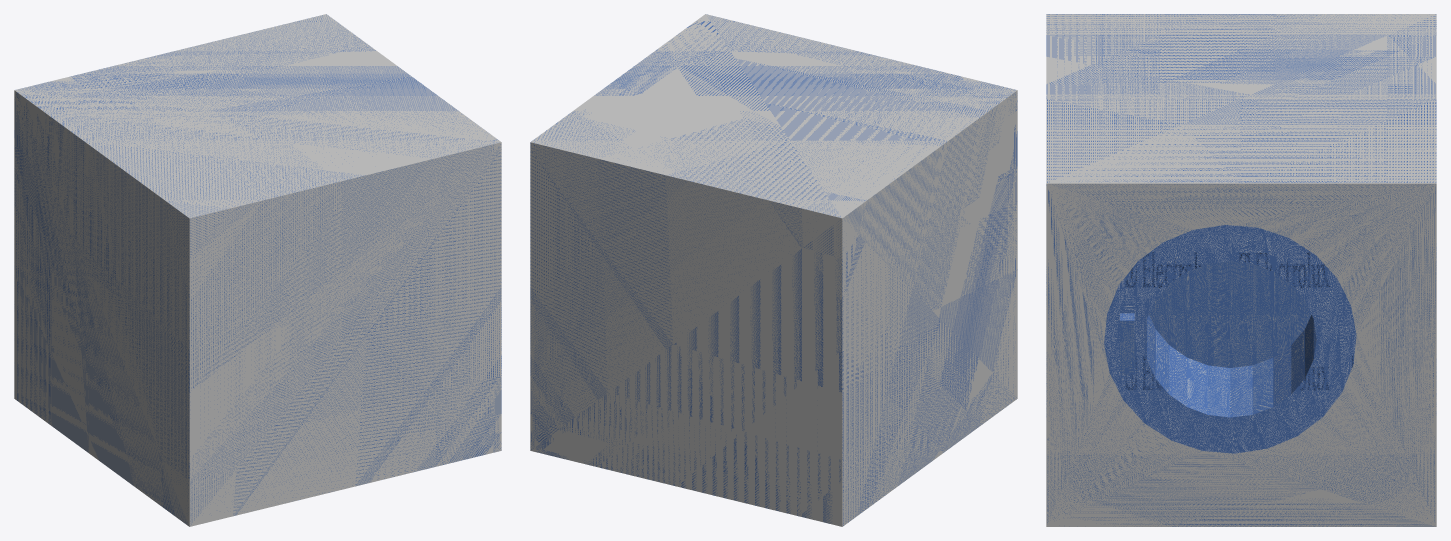
3 views of the same model, side by side, from view 1: azimuth 30°, elevation 25°; view 2: azimuth 150°, elevation 25°; view 3: azimuth 270°, elevation 25° (orthographic). The views are drawn at different scales.
Parts seen in each view (by area): view 1: mesh1_mesh1-geometry; view 2: mesh1_mesh1-geometry; view 3: mesh1_mesh1-geometry.
Part boxes in pixels (x1=…): mesh1_mesh1-geometry: x1=14, y1=14, x2=501, y2=526; mesh1_mesh1-geometry: x1=530, y1=14, x2=1017, y2=526; mesh1_mesh1-geometry: x1=1046, y1=14, x2=1436, y2=526.
Bounding box in the file's own units: 0.6094 × 0.5525 × 0.5687.
